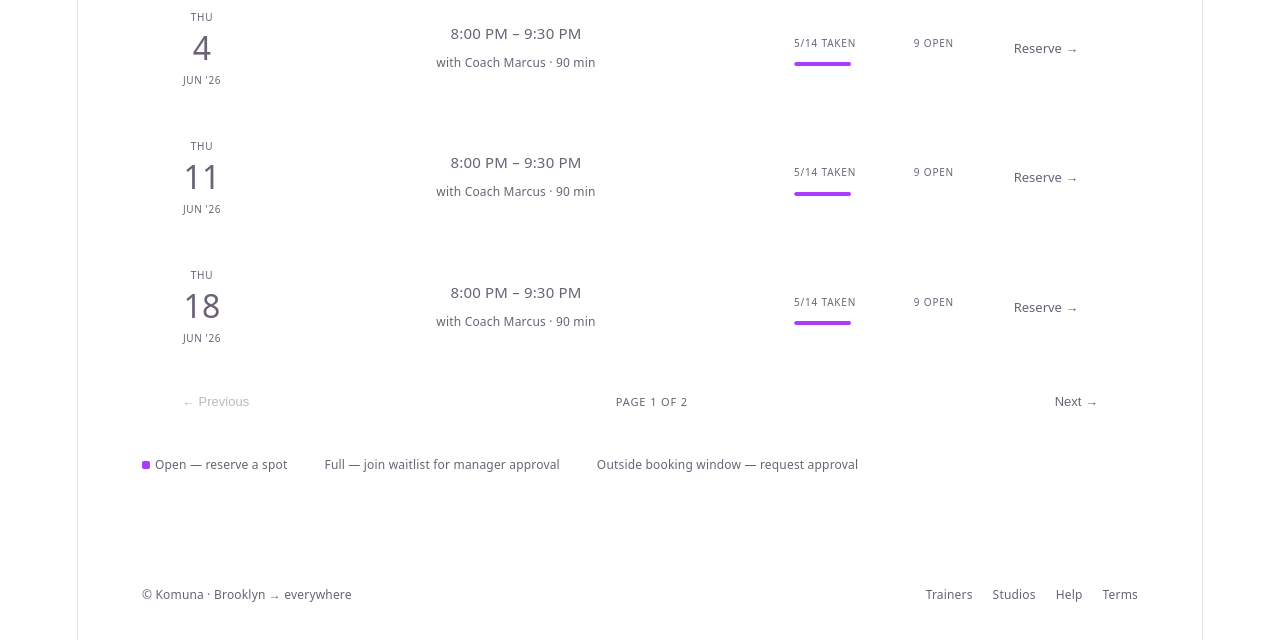
it: SessionsPage › Next button advances to the second page
(page scrolled)
Expected: the text "Page 1 of 2" is shown, [616, 394, 688, 409]
Click the button "Next →" at [1076, 402], box [1039, 387, 1114, 416]
(page scrolled)
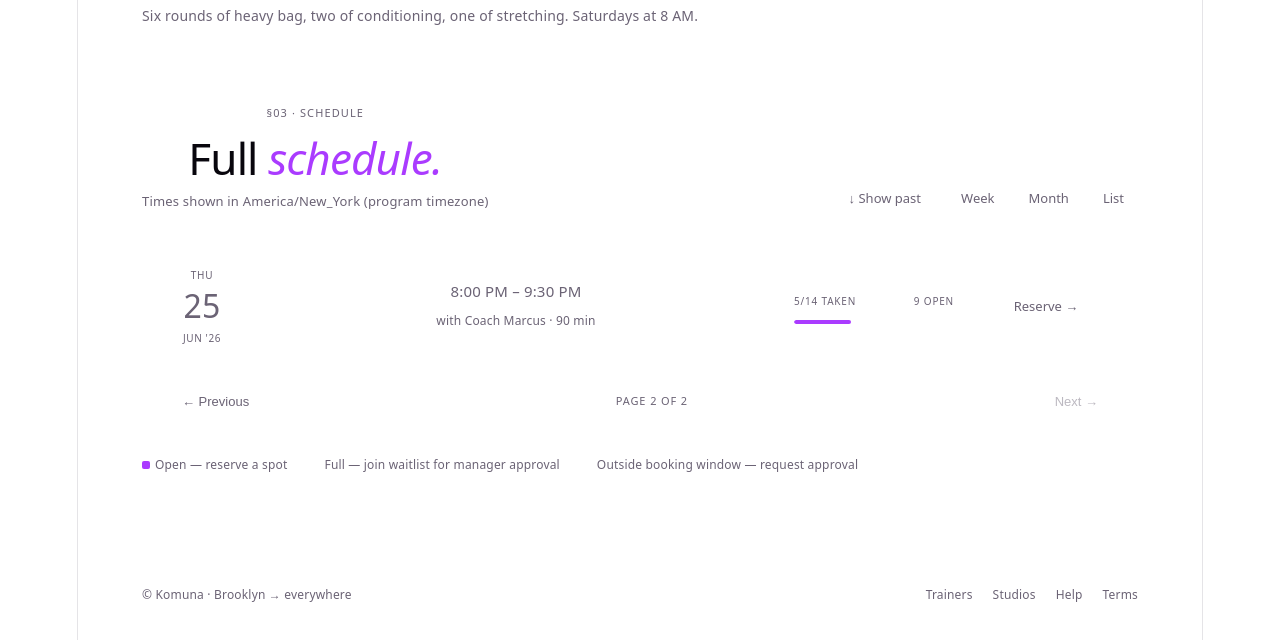
Now the text "Page 2 of 2" is shown, box [616, 393, 688, 408]
